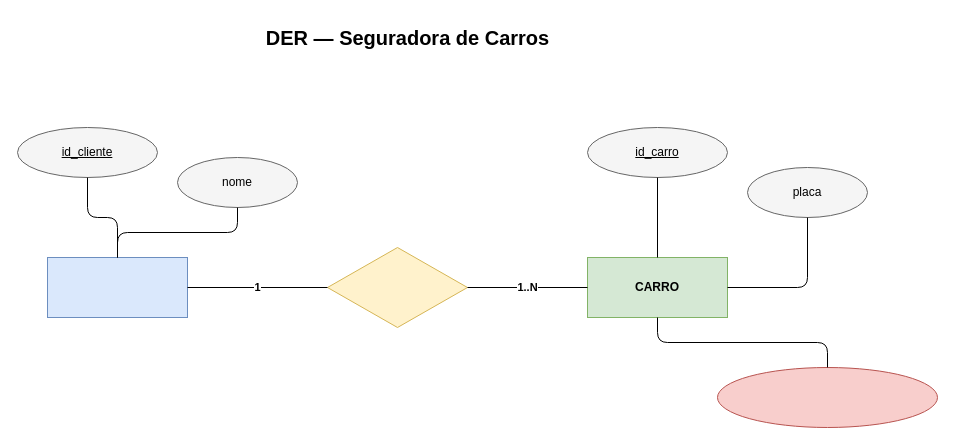
Some shapes in this 955 by 445 pixel diagram are drawn without their labels. Each missing label, with the centre of its shape:
"CLIENTE" belongs at pixel 117 287.
"POSSUI" belongs at pixel 397 287.
"quantidade de acidentes registrados" belongs at pixel 827 397.
